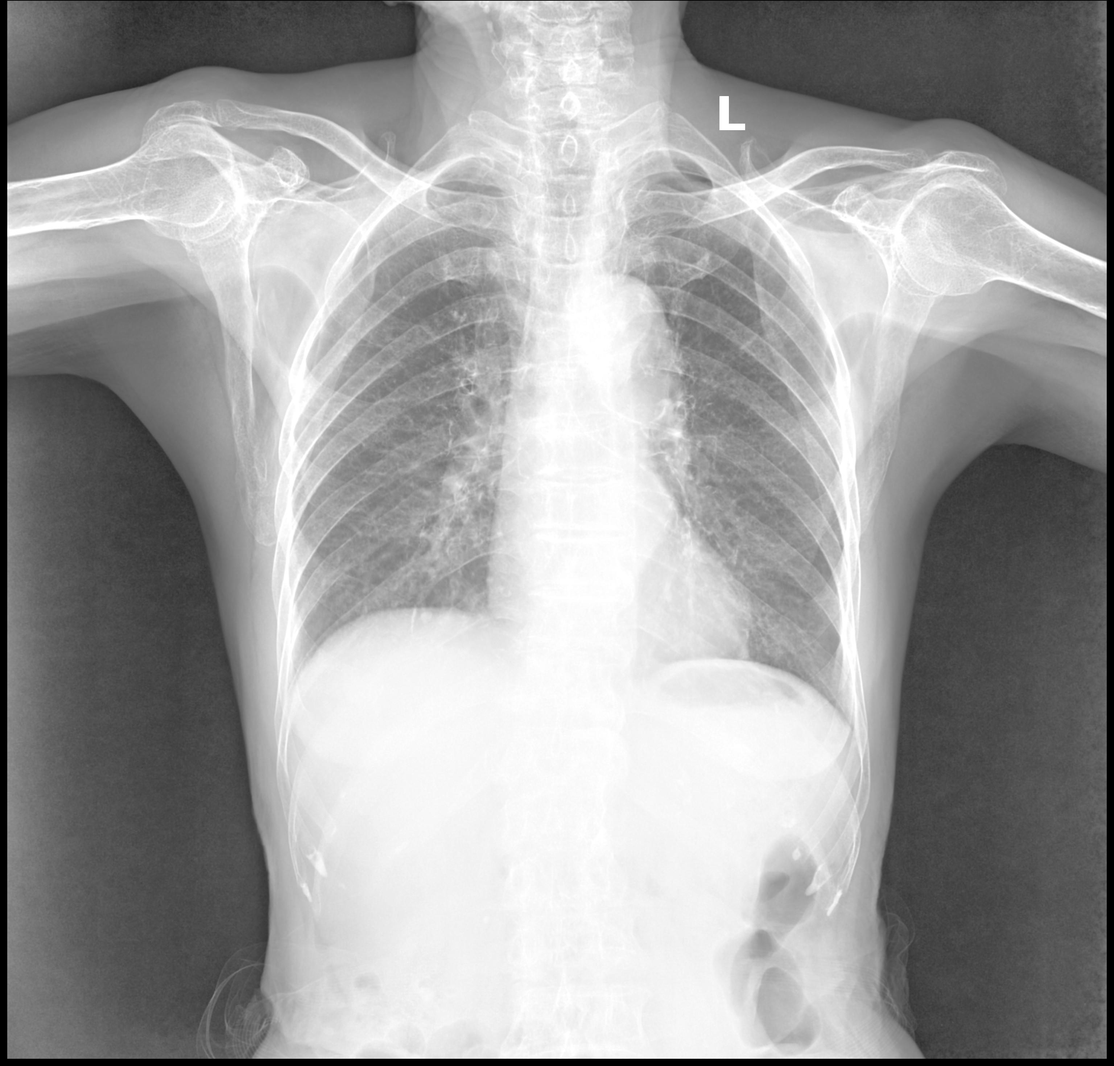Aortic enlargement: (570, 273, 674, 385)
Pulmonary fibrosis: (429, 232, 453, 280), (739, 330, 758, 350)
